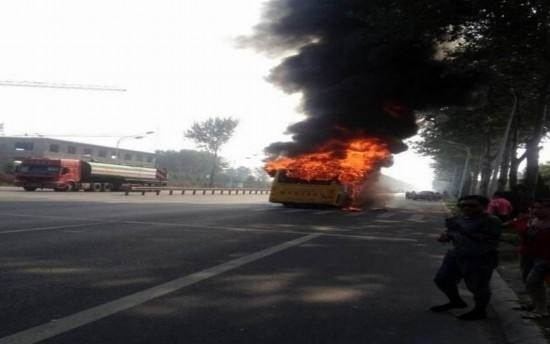fire: (263, 129, 396, 202)
